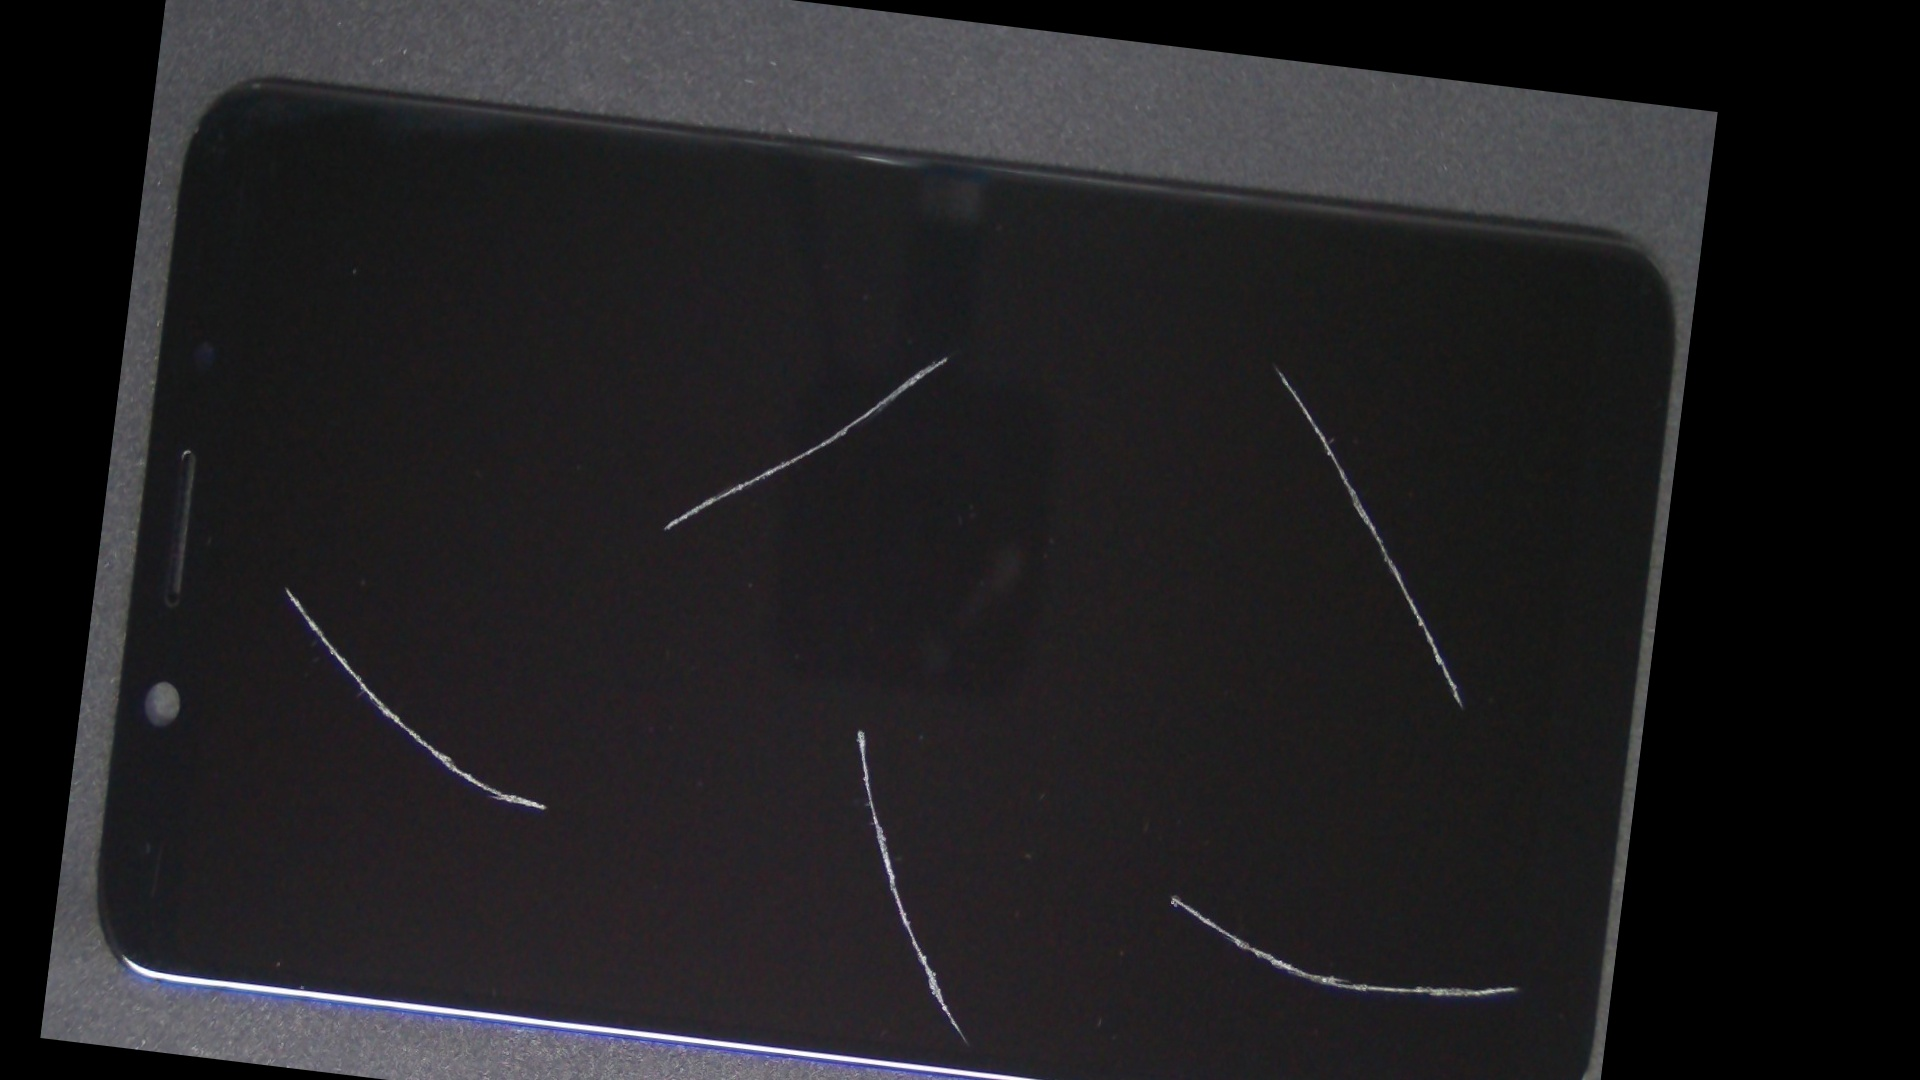oil: (591, 409, 1667, 1080), (433, 327, 1291, 1080), (684, 144, 1700, 568), (521, 140, 1373, 571), (140, 240, 431, 935)
